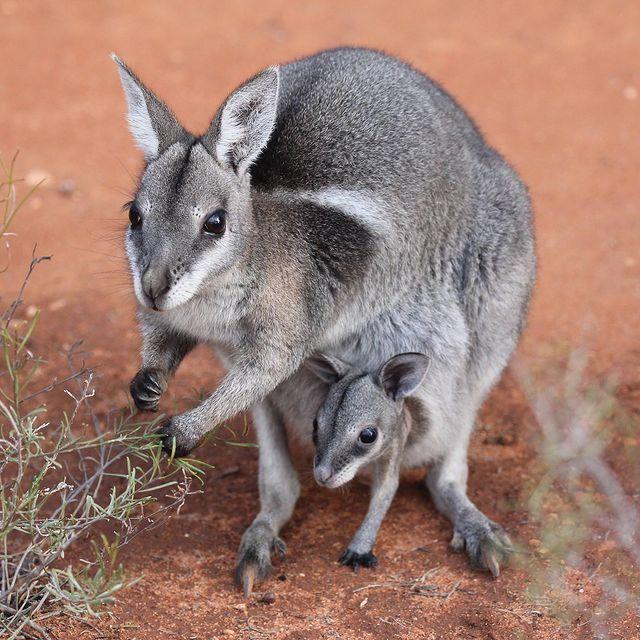Bridled-nail-tail wallaby: (113, 44, 542, 596), (306, 350, 434, 576)
